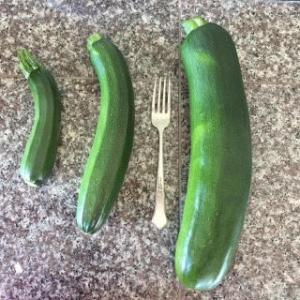zucchini: (174, 19, 256, 299)
